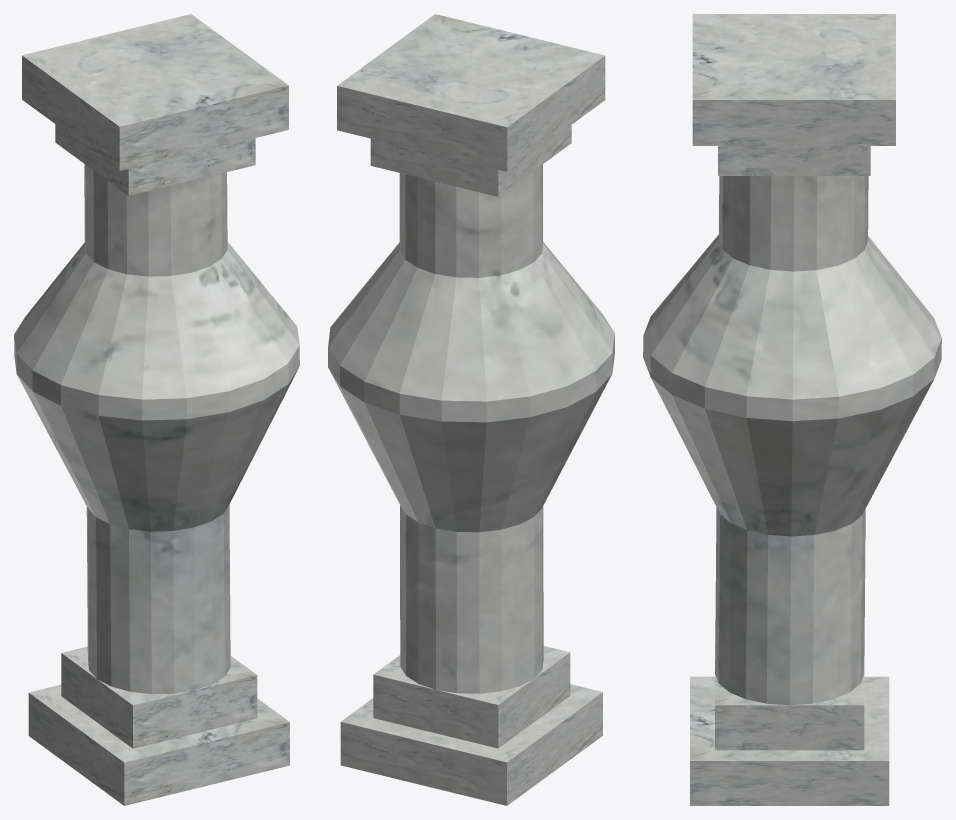
File: story pillar model 1.fbx
3 views of the same model, side by side, from view 1: azimuth 30°, elevation 25°; view 2: azimuth 150°, elevation 25°; view 3: azimuth 270°, elevation 25° (orthographic). The views are drawn at different scales.
Parts seen in each view (by area): view 1: pasted__pasted__pCylinder1, pasted__pasted__pCube7, pasted__pasted__pCube1, pasted__pasted__pCube2, pasted__pasted__pCube6; view 2: pasted__pasted__pCylinder1, pasted__pasted__pCube7, pasted__pasted__pCube1, pasted__pasted__pCube2, pasted__pasted__pCube6; view 3: pasted__pasted__pCylinder1, pasted__pasted__pCube7, pasted__pasted__pCube1, pasted__pasted__pCube2, pasted__pasted__pCube6.
Boxes of the visible parts, bbox=[...] form: pasted__pasted__pCylinder1: bbox=[14, 164, 299, 694]; pasted__pasted__pCube7: bbox=[22, 14, 288, 170]; pasted__pasted__pCube1: bbox=[28, 684, 289, 805]; pasted__pasted__pCube2: bbox=[61, 646, 257, 748]; pasted__pasted__pCube6: bbox=[55, 124, 255, 195]; pasted__pasted__pCylinder1: bbox=[328, 164, 614, 693]; pasted__pasted__pCube7: bbox=[337, 14, 605, 171]; pasted__pasted__pCube1: bbox=[340, 684, 602, 805]; pasted__pasted__pCube2: bbox=[373, 646, 570, 748]; pasted__pasted__pCube6: bbox=[370, 125, 571, 196]; pasted__pasted__pCylinder1: bbox=[643, 176, 941, 705]; pasted__pasted__pCube7: bbox=[692, 14, 895, 145]; pasted__pasted__pCube1: bbox=[690, 676, 889, 805]; pasted__pasted__pCube2: bbox=[715, 642, 864, 750]; pasted__pasted__pCube6: bbox=[718, 146, 870, 175].
Size of the model in its own units: 3 by 7.83 by 3.
Materials: 1 (1 with a texture image).
